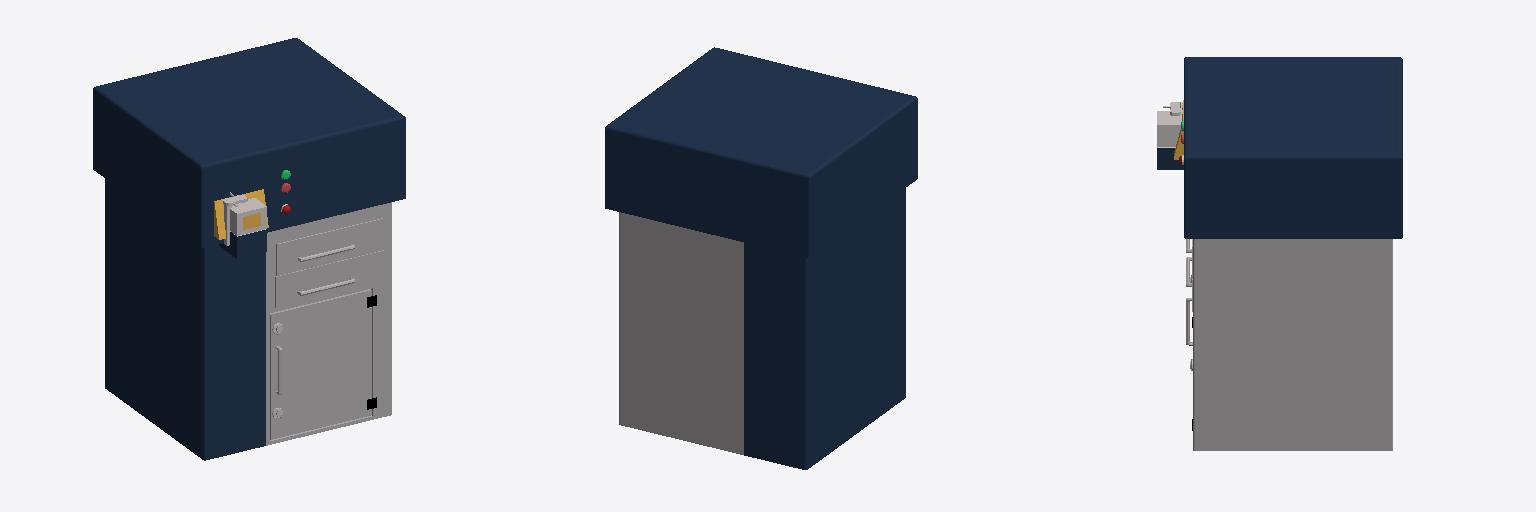
3 renders of one model, left to right at view 1: azimuth 30°, elevation 25°; view 2: azimuth 150°, elevation 25°; view 3: azimuth 270°, elevation 25°, orthographic.
Visible parts, largest first — view 1: Cube.036_Cube.064, Cube.042_Cube.070, Cube.039_Cube.067; view 2: Cube.036_Cube.064; view 3: Cube.036_Cube.064, Cube.042_Cube.070.
Boxes of the visible parts, <box> form: Cube.036_Cube.064: <box>93,38,405,460</box>; Cube.042_Cube.070: <box>214,189,268,258</box>; Cube.039_Cube.067: <box>275,244,354,394</box>; Cube.036_Cube.064: <box>605,47,917,469</box>; Cube.036_Cube.064: <box>1184,57,1402,450</box>; Cube.042_Cube.070: <box>1157,100,1183,169</box>.
Size of the model in its own units: 6.42 by 8.95 by 6.62.
1 materials, 1 textured.